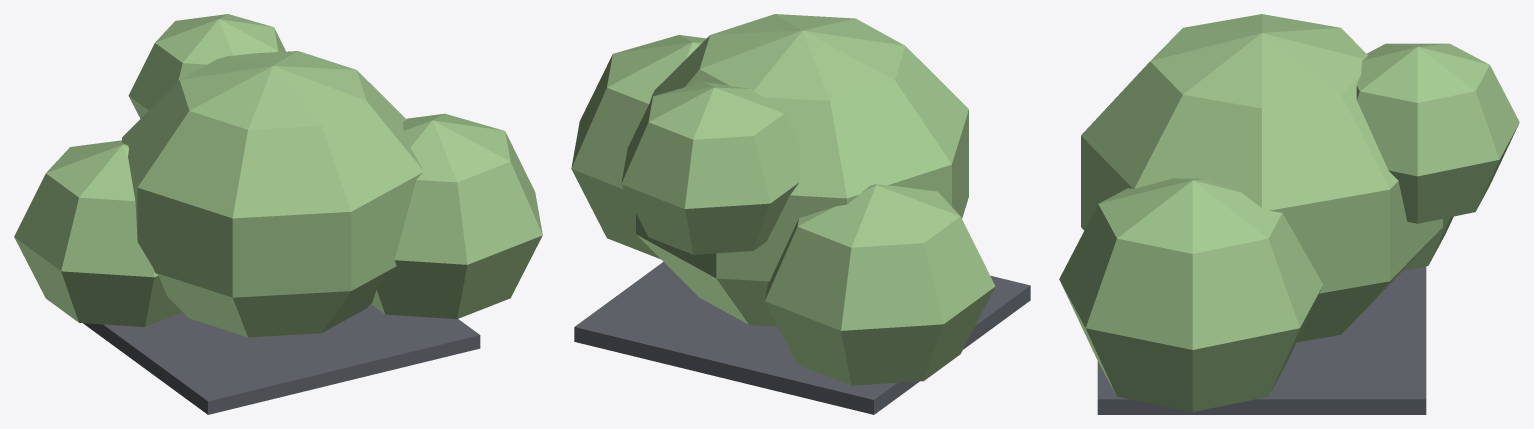
File: shrub_clump.glb
3 renders of one model, left to right at view 1: azimuth 30°, elevation 25°; view 2: azimuth 150°, elevation 25°; view 3: azimuth 270°, elevation 25°, orthographic. The views are drawn at different scales.
Visible parts, largest first — view 1: shrub-clump-grass, shrub-clump-charcoal; view 2: shrub-clump-grass, shrub-clump-charcoal; view 3: shrub-clump-grass, shrub-clump-charcoal.
Boxes of the visible parts, bbox=[...] form: shrub-clump-grass: bbox=[14, 14, 542, 337]; shrub-clump-charcoal: bbox=[83, 304, 480, 414]; shrub-clump-grass: bbox=[571, 14, 995, 385]; shrub-clump-charcoal: bbox=[574, 262, 1030, 414]; shrub-clump-grass: bbox=[1059, 14, 1519, 411]; shrub-clump-charcoal: bbox=[1097, 266, 1426, 414].
Size of the model in its own units: 1.64 by 0.973 by 1.33.
